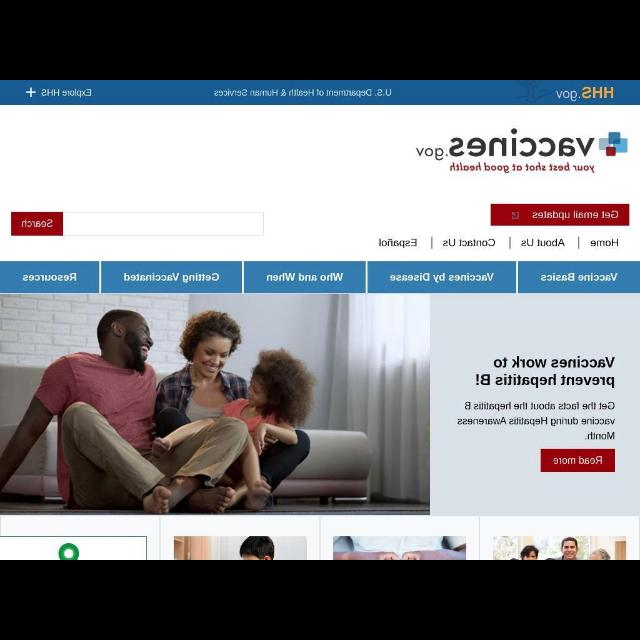icon: (26, 86, 36, 98), (510, 210, 520, 220)
image: (1, 294, 430, 514), (332, 536, 466, 560), (1, 537, 147, 559), (494, 535, 626, 559), (176, 536, 306, 560), (598, 132, 628, 156)
input: (62, 212, 264, 235)
multitab: (22, 273, 618, 283), (379, 238, 619, 250)
text: (416, 128, 594, 174), (458, 402, 614, 441), (475, 356, 615, 388), (214, 89, 392, 98), (124, 272, 220, 284), (389, 273, 493, 283), (532, 210, 618, 222), (556, 86, 614, 102), (540, 272, 618, 282), (266, 272, 344, 282), (442, 238, 496, 248), (40, 89, 92, 98), (379, 238, 417, 250), (22, 274, 78, 282), (521, 238, 565, 248), (553, 456, 603, 464), (21, 218, 53, 228), (590, 238, 618, 248)
textbutton: (489, 204, 628, 226), (540, 449, 616, 473), (11, 212, 63, 236)
